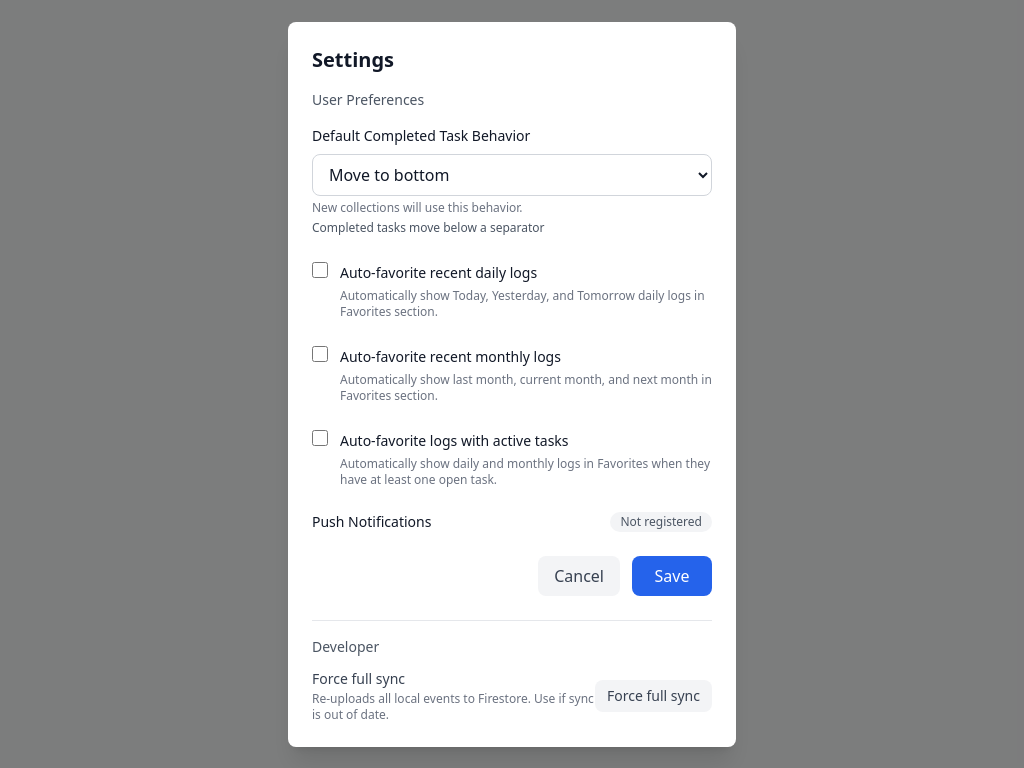
Scenario: SettingsModal › should show error message on save failure
Click the button "Save" at (672, 576), box x1=632 y1=556 x2=712 y2=596
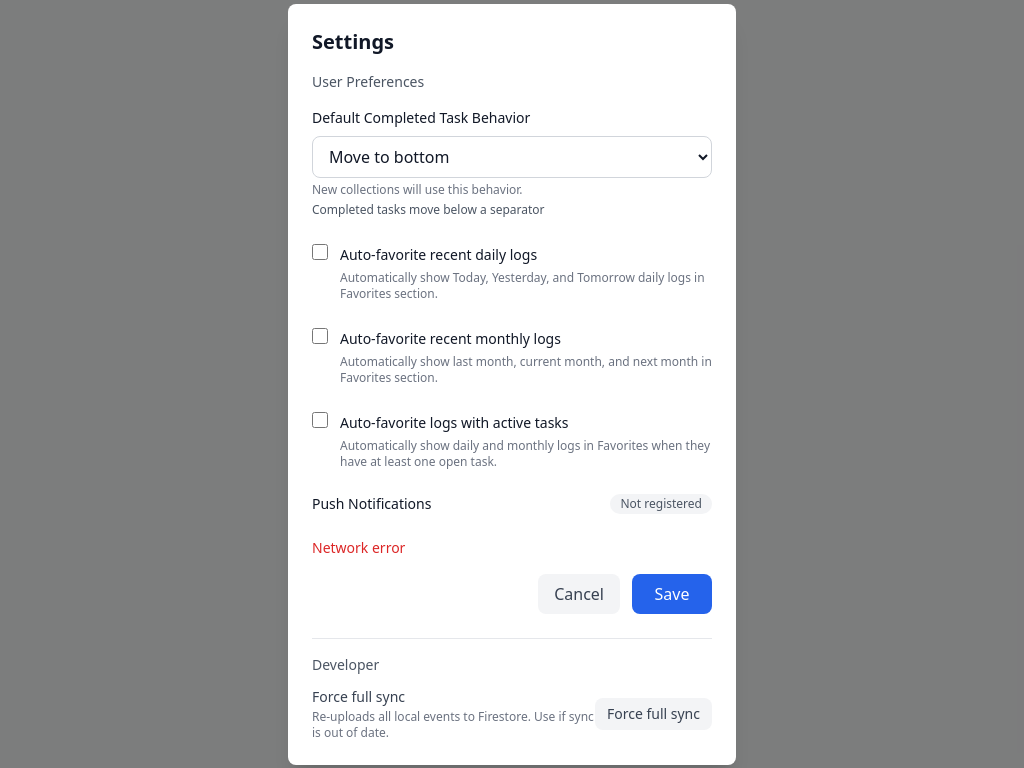
expect the text "Network error" is shown: met, box x1=312 y1=538 x2=405 y2=556
